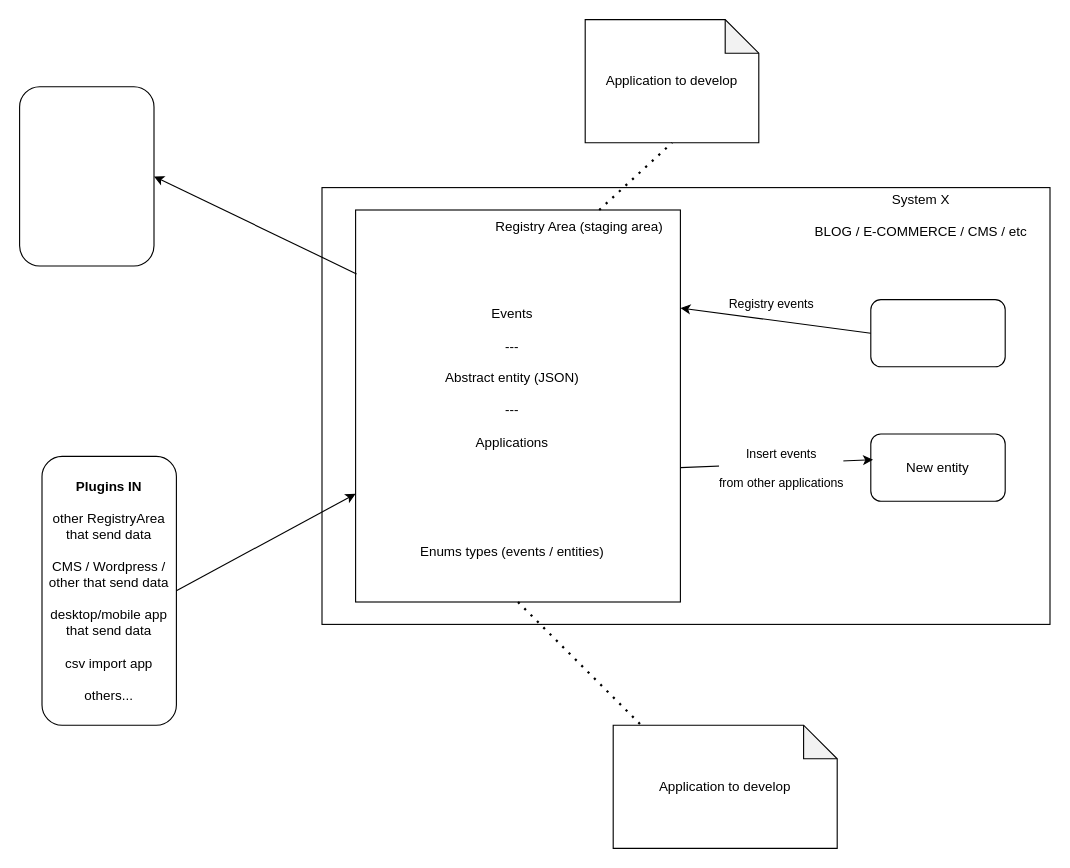
This 1070x868 diagram has some shape labels left out. Each missing label, with the centre of its shape:
"CRUD Entities" goes at point (937, 332).
"Plugins OUT web api / rest api newsletter / feed export csv others..." goes at point (86, 176).
